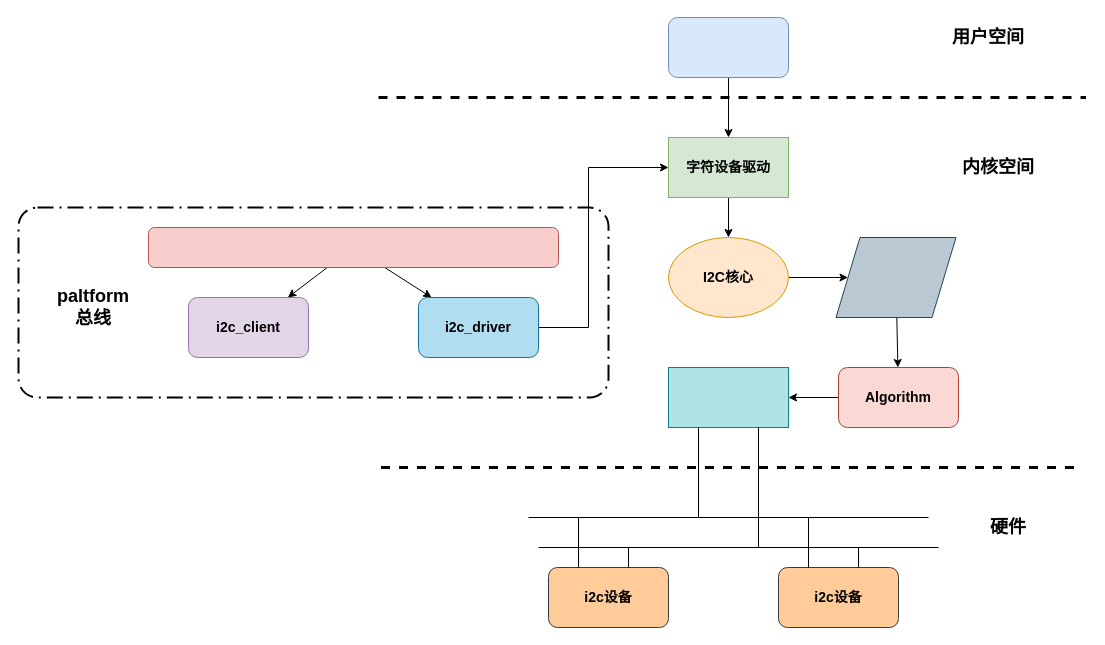
Some shapes in this 1105 by 645 pixel diagram are drawn without their labels. Each missing label, with the box of its shape:
I2C总线: (148, 226, 558, 268)
I2C适配器: (835, 236, 956, 318)
应用程序: (668, 16, 788, 78)
硬件操作代码: (668, 366, 788, 428)
